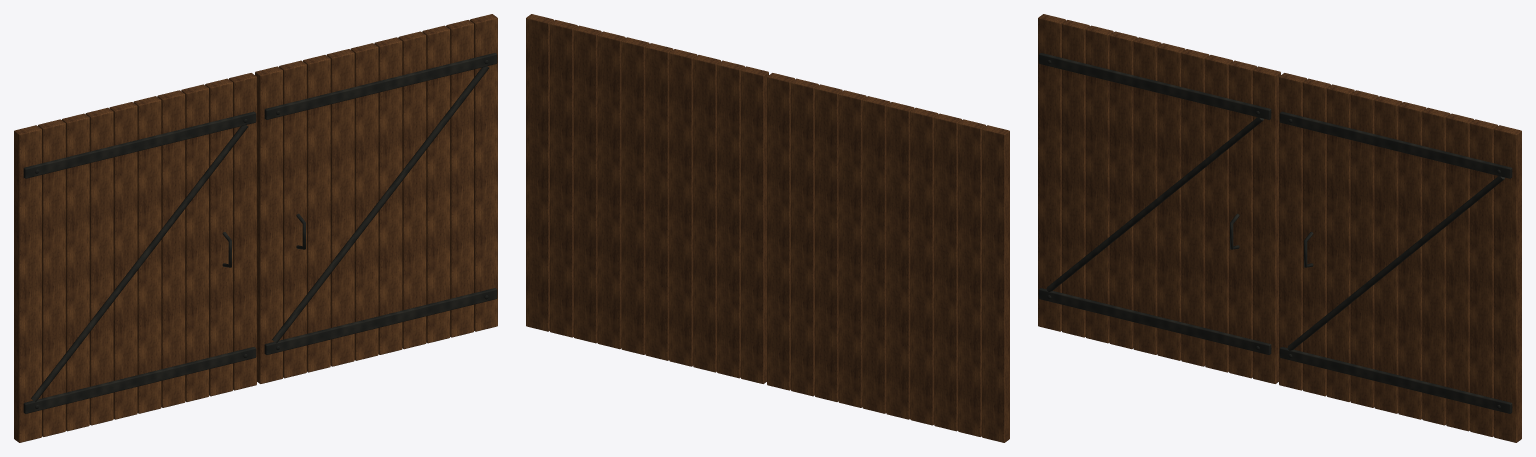
Rendered from GarageDoors.fbx.
3 renders of one model, left to right at view 1: azimuth 30°, elevation 25°; view 2: azimuth 150°, elevation 25°; view 3: azimuth 330°, elevation 25°, orthographic.
Parts seen in each view (by area): view 1: GarageDoors_SmokedOak, GarageDoors_Iron; view 2: GarageDoors_SmokedOak; view 3: GarageDoors_SmokedOak, GarageDoors_Iron.
Boxes of the visible parts, bbox=[...] form: GarageDoors_SmokedOak: bbox=[14, 14, 497, 442]; GarageDoors_Iron: bbox=[23, 53, 497, 413]; GarageDoors_SmokedOak: bbox=[526, 14, 1009, 442]; GarageDoors_SmokedOak: bbox=[1038, 14, 1521, 442]; GarageDoors_Iron: bbox=[1038, 53, 1512, 413].
Bounding box in the file's own units: 441 × 272 × 23.7.
